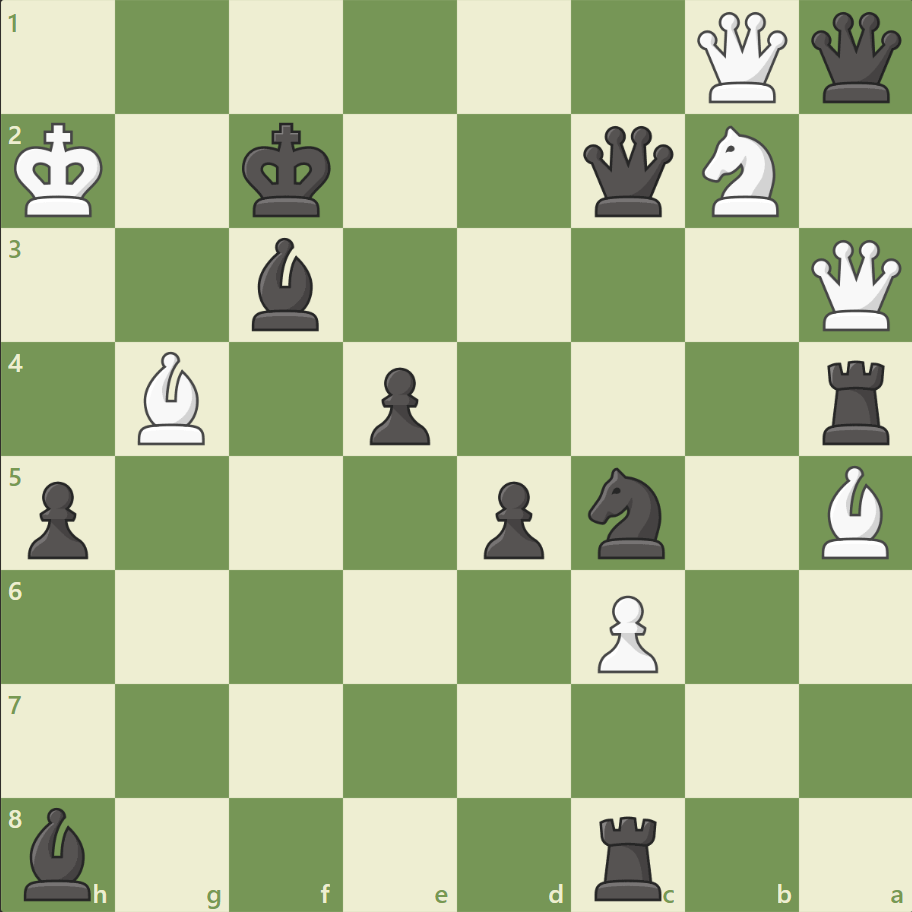B: (812, 460, 896, 563), (131, 347, 215, 449)
K: (11, 117, 111, 225)
N: (692, 121, 789, 223)
P: (588, 586, 662, 677)
Q: (805, 236, 904, 335), (691, 9, 790, 108)
b: (17, 801, 101, 904), (244, 233, 328, 336)
k: (238, 117, 338, 225)
n: (579, 461, 676, 564)
p: (474, 473, 549, 564), (20, 473, 95, 564), (361, 359, 435, 450)
q: (578, 122, 677, 222), (805, 9, 904, 108)
r: (587, 806, 670, 904), (814, 352, 897, 449)
